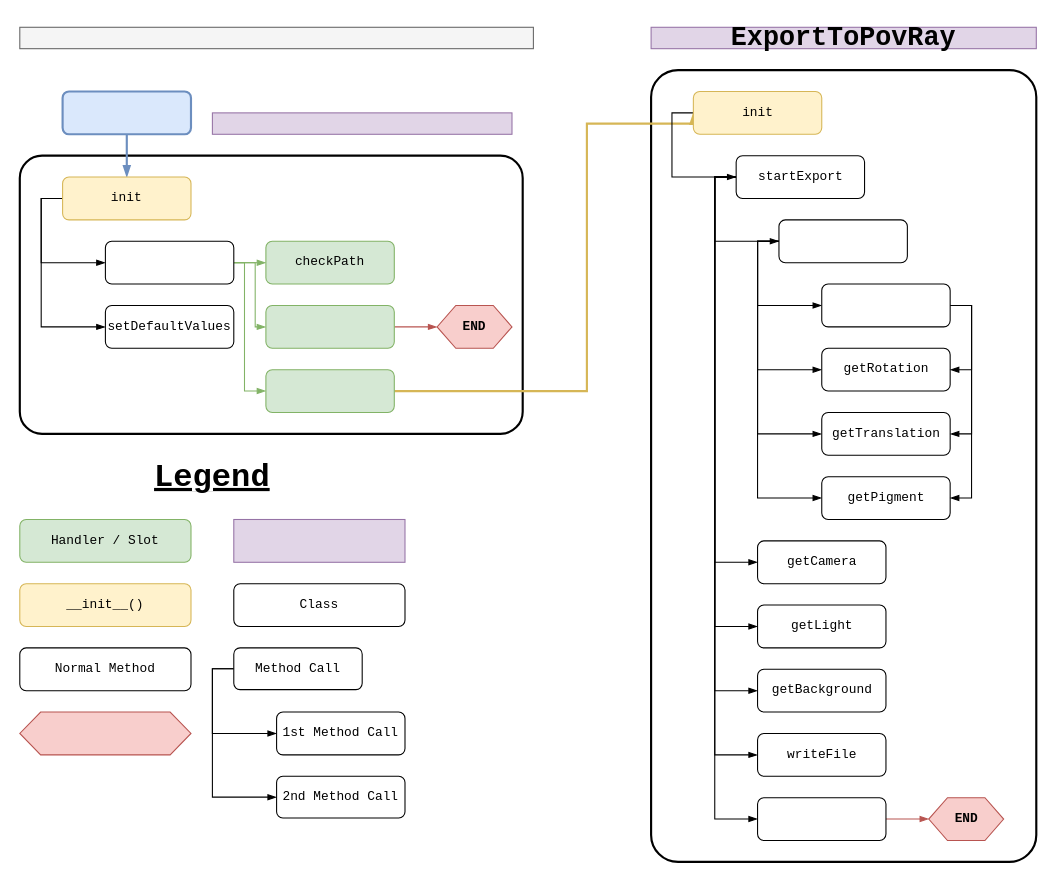
Image size: 1055x881. Some labels were removed from this diagram. Here are the shapes that lost their labels. From the top down, the box of each, then its label:
(19, 26, 533, 49): Program Flow
(61, 90, 192, 135): main
(211, 112, 512, 134): GUI
(778, 219, 907, 263): createPovCode
(104, 240, 234, 284): initUI
(821, 283, 950, 327): createMesh
(265, 304, 394, 348): onCancel
(265, 369, 394, 412): onOk
(233, 518, 405, 562): Class Name
(19, 711, 191, 755): End of Program
(756, 797, 886, 840): openPovRay
